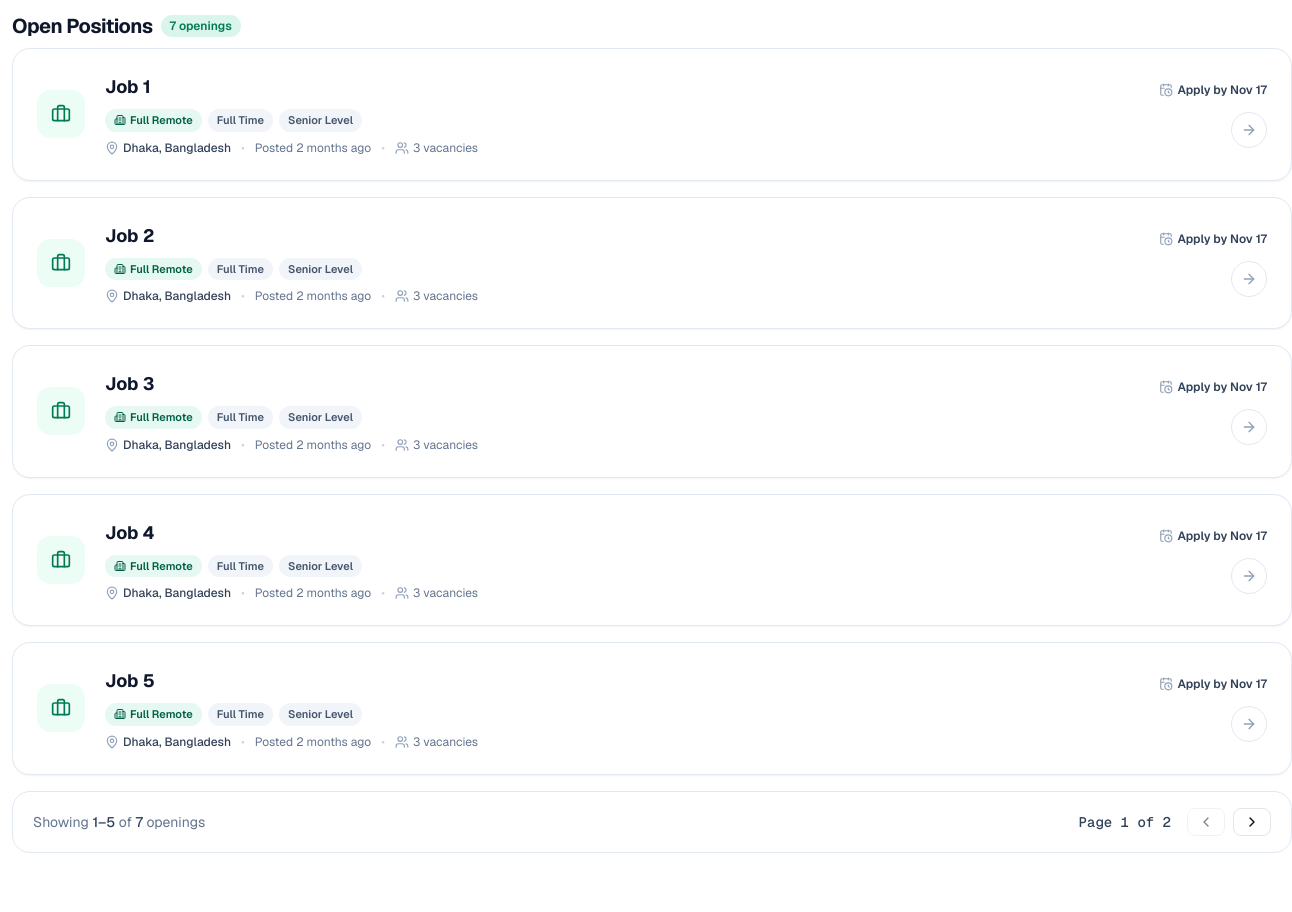
it: PublicCompanyJobsList › paginates jobs with previous/next controls
Expected: the heading "Job 1" is shown, [105, 73, 151, 101]
Expected: the heading "Job 5" is shown, [105, 667, 155, 695]
Click the button named "Next page" at (1252, 822), box [1233, 808, 1271, 836]
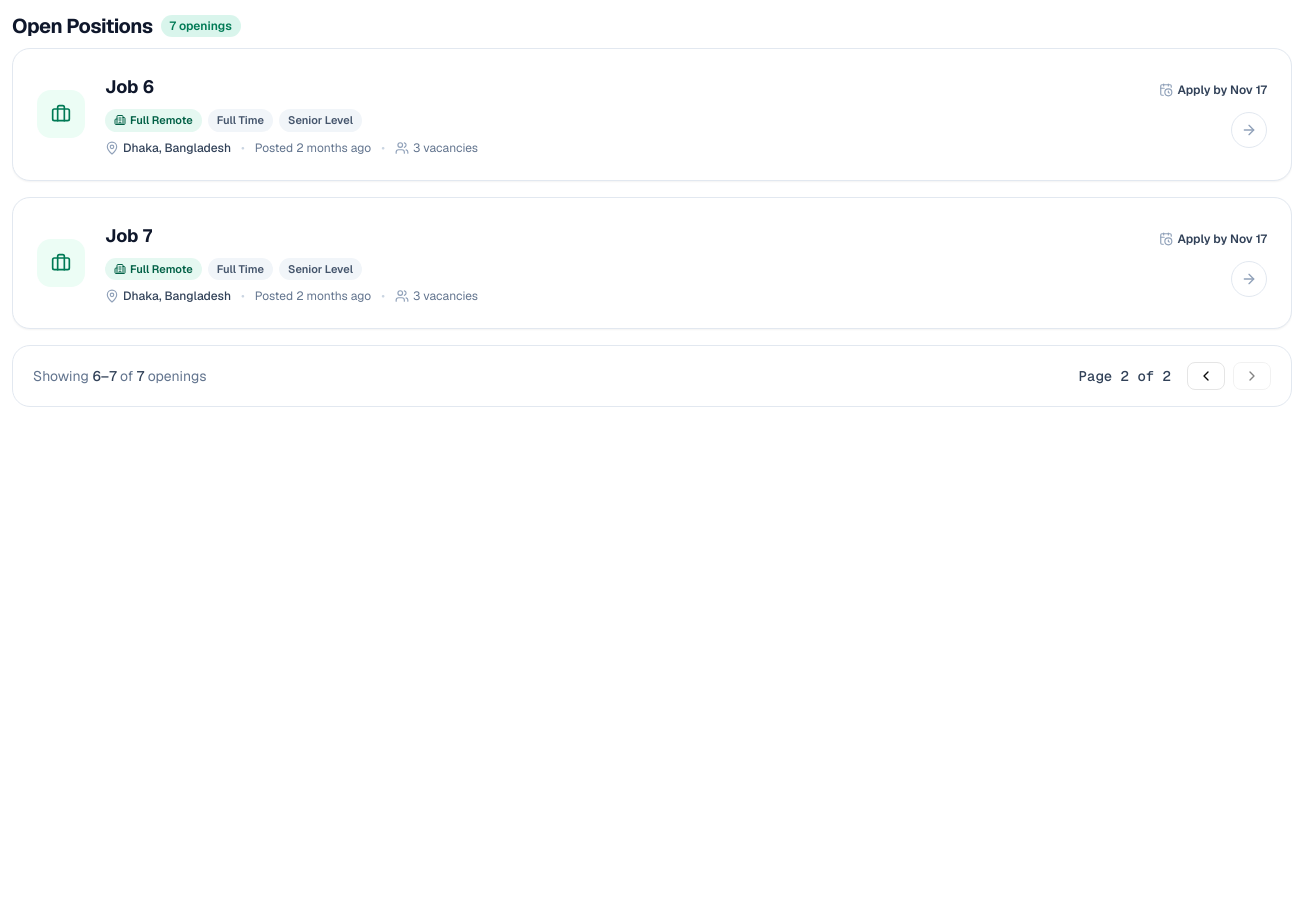
Now the heading "Job 1" is gone
Now the heading "Job 6" is shown, box [105, 73, 154, 101]
Now the heading "Job 7" is shown, box [105, 222, 152, 250]
